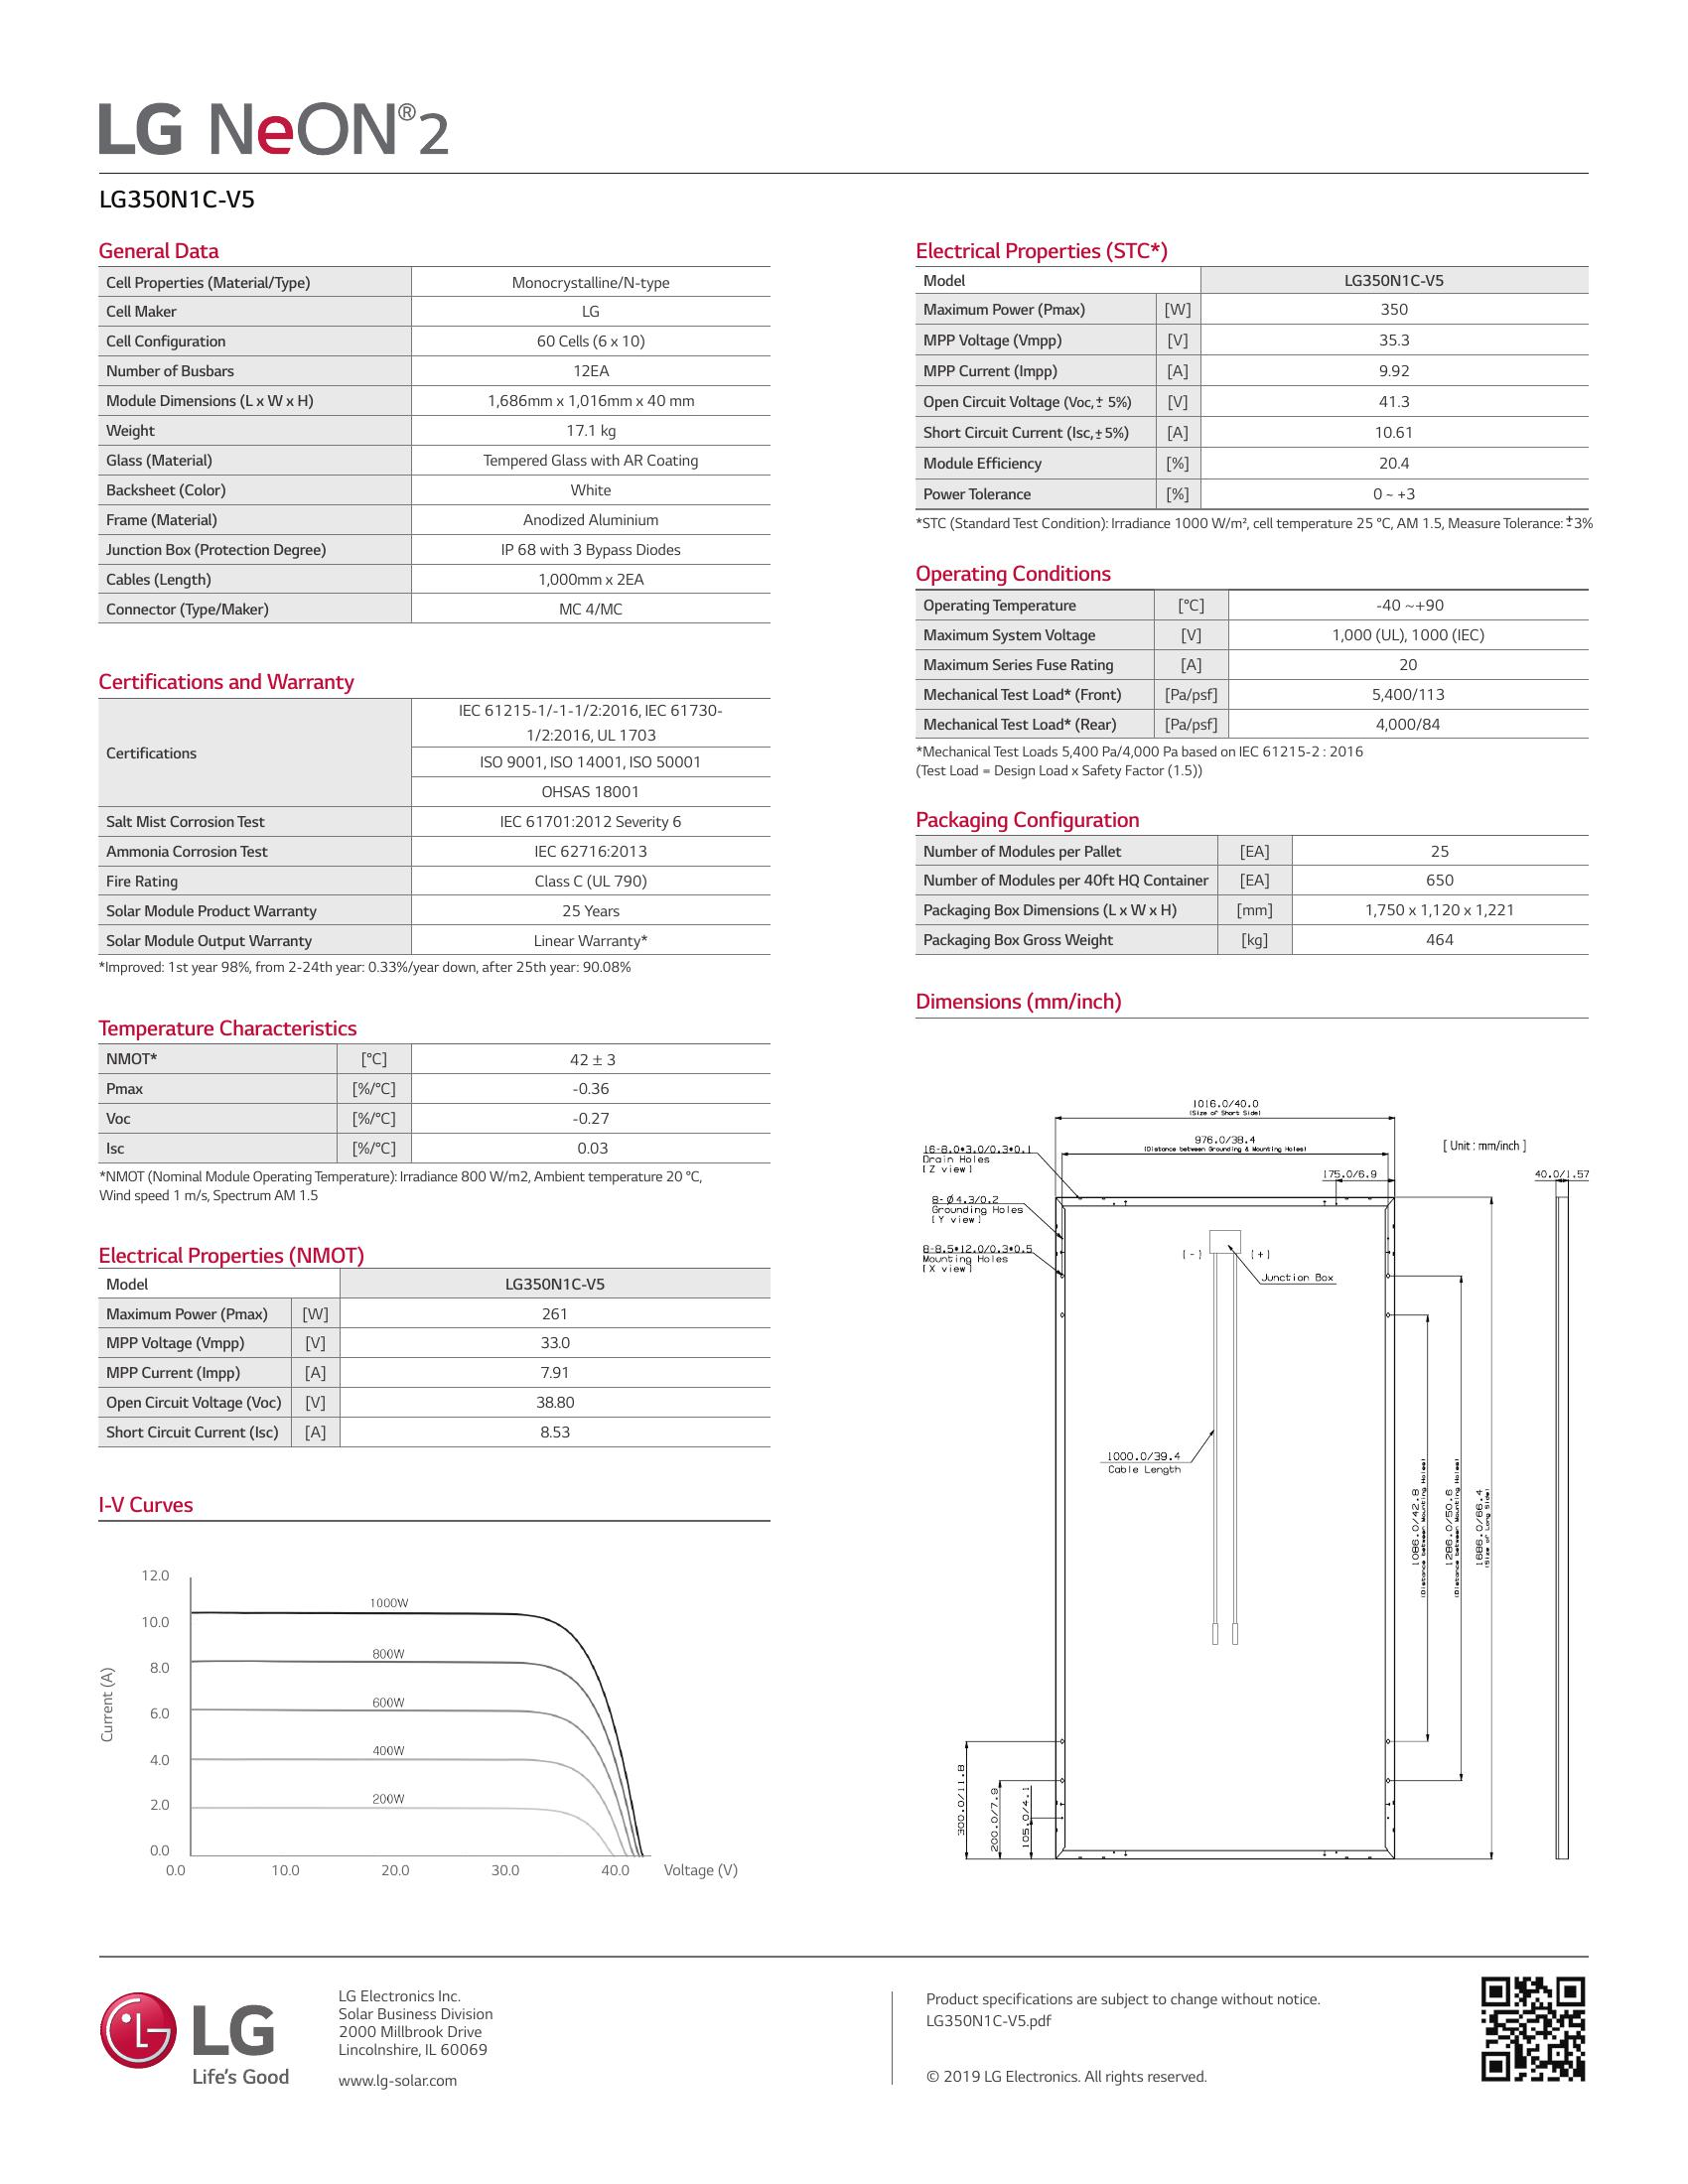table: (83, 261, 791, 633), (90, 691, 787, 982), (908, 259, 1603, 542), (85, 1262, 796, 1464), (906, 578, 1598, 782), (94, 1039, 782, 1211), (908, 830, 1594, 966)
